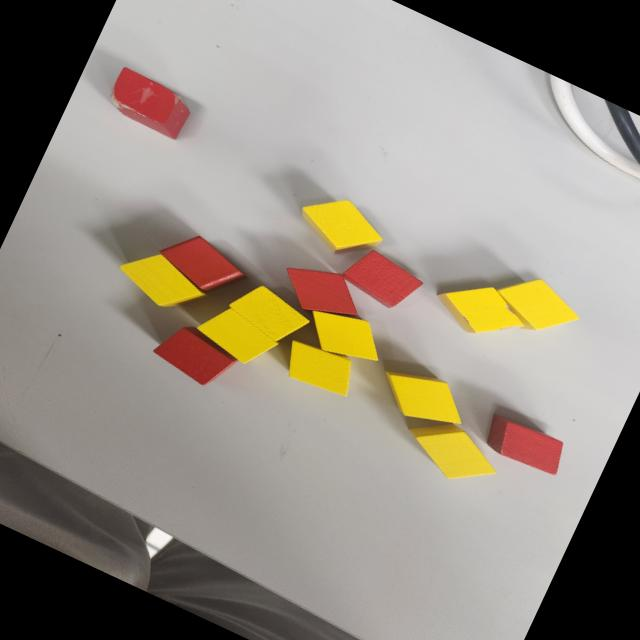broken: (427, 267, 532, 353), (102, 66, 198, 142), (223, 276, 315, 352)
red: (152, 224, 254, 306), (147, 314, 245, 396), (274, 252, 371, 332), (337, 242, 427, 317), (478, 410, 570, 480)
yellow: (393, 406, 507, 496), (290, 182, 392, 270), (371, 356, 476, 440), (488, 264, 588, 350), (111, 240, 215, 322), (298, 298, 391, 374), (192, 300, 284, 374), (278, 334, 362, 402)
